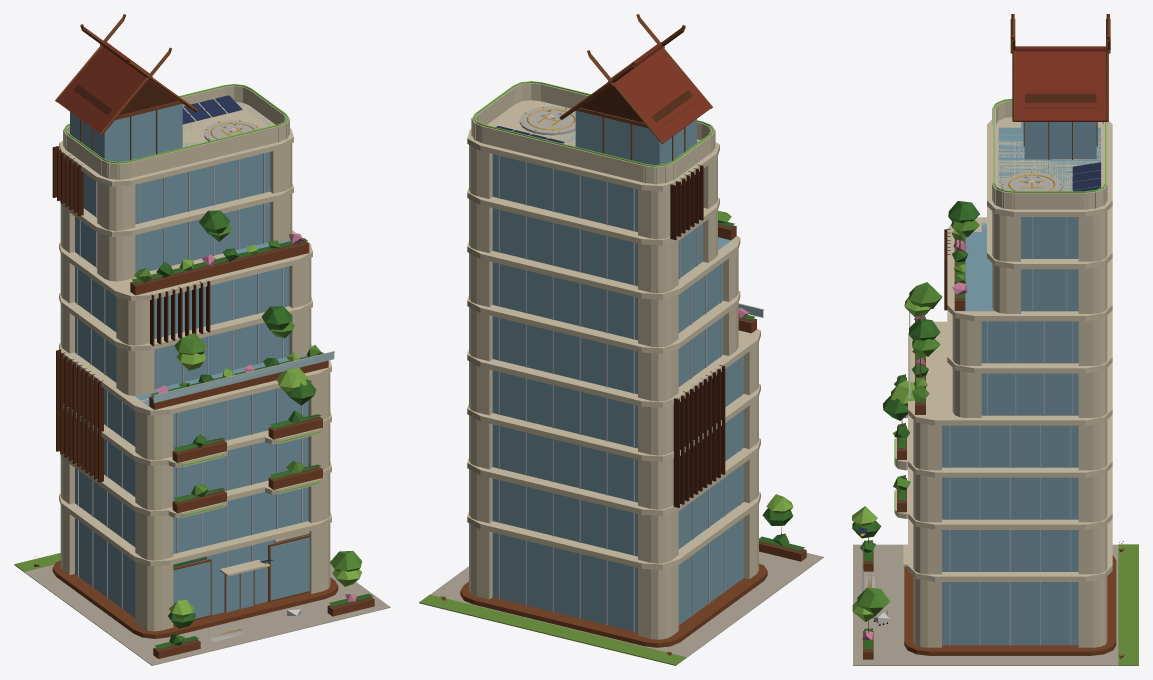
Rendered from shop_3.glb.
3 renders of one model, left to right at view 1: azimuth 30°, elevation 25°; view 2: azimuth 150°, elevation 25°; view 3: azimuth 270°, elevation 25°, orthographic. The views are drawn at different scales.
Visible parts, largest first — view 1: body, windows; view 2: body, windows; view 3: body, windows.
Part boxes in pixels (x1,y1,x2,y2): body: (14, 14, 390, 665); windows: (64, 84, 320, 613); body: (419, 14, 823, 665); windows: (473, 81, 714, 166); body: (852, 14, 1138, 665); windows: (860, 98, 1106, 620).
Size of the model in its own units: 15.9 by 34.49 by 15.95.
